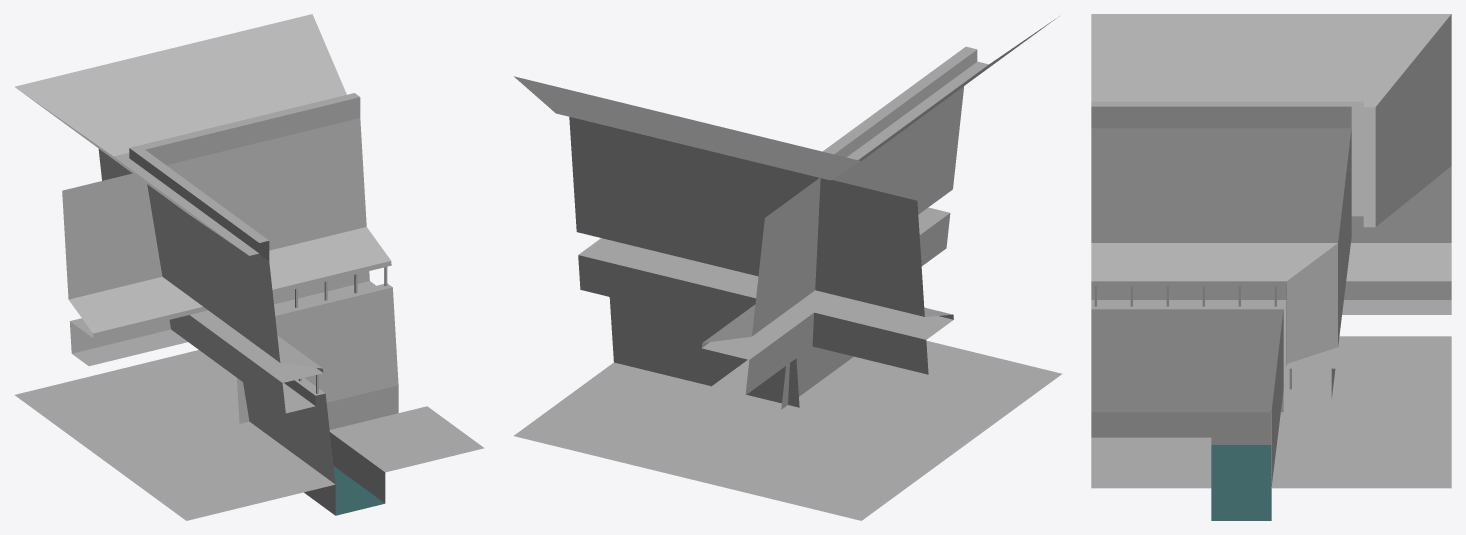
The model's file is ccrc.obj.
3 views of the same model, side by side, from view 1: azimuth 30°, elevation 25°; view 2: azimuth 150°, elevation 25°; view 3: azimuth 270°, elevation 25° (orthographic). The views are drawn at different scales.
Parts seen in each view (by area): view 1: ccrc; view 2: ccrc; view 3: ccrc.
Part boxes in pixels (bbox=[...]): ccrc: bbox=[14, 14, 484, 520]; ccrc: bbox=[514, 16, 1062, 520]; ccrc: bbox=[1091, 14, 1451, 520].
Bounding box in the file's own units: 30 × 32.63 × 30.
